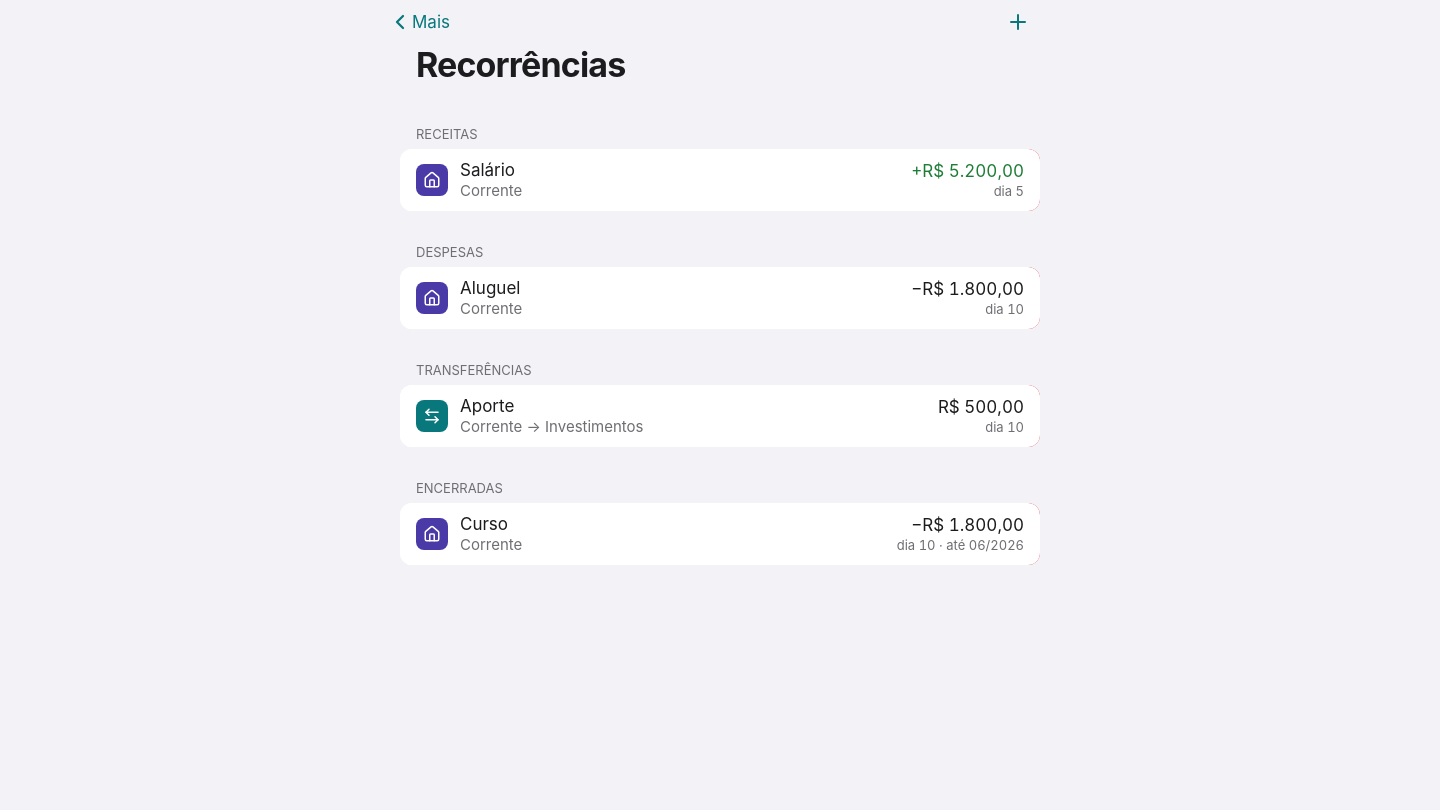
TelaRecorrencias › transferência troca categoria por "Para"
The image size is (1440, 810).
Expected: the text "Aluguel" is shown, [460,278,520,298]
Click the button named "Nova recorrência".
click(1018, 22)  # box [996,0,1040,44]
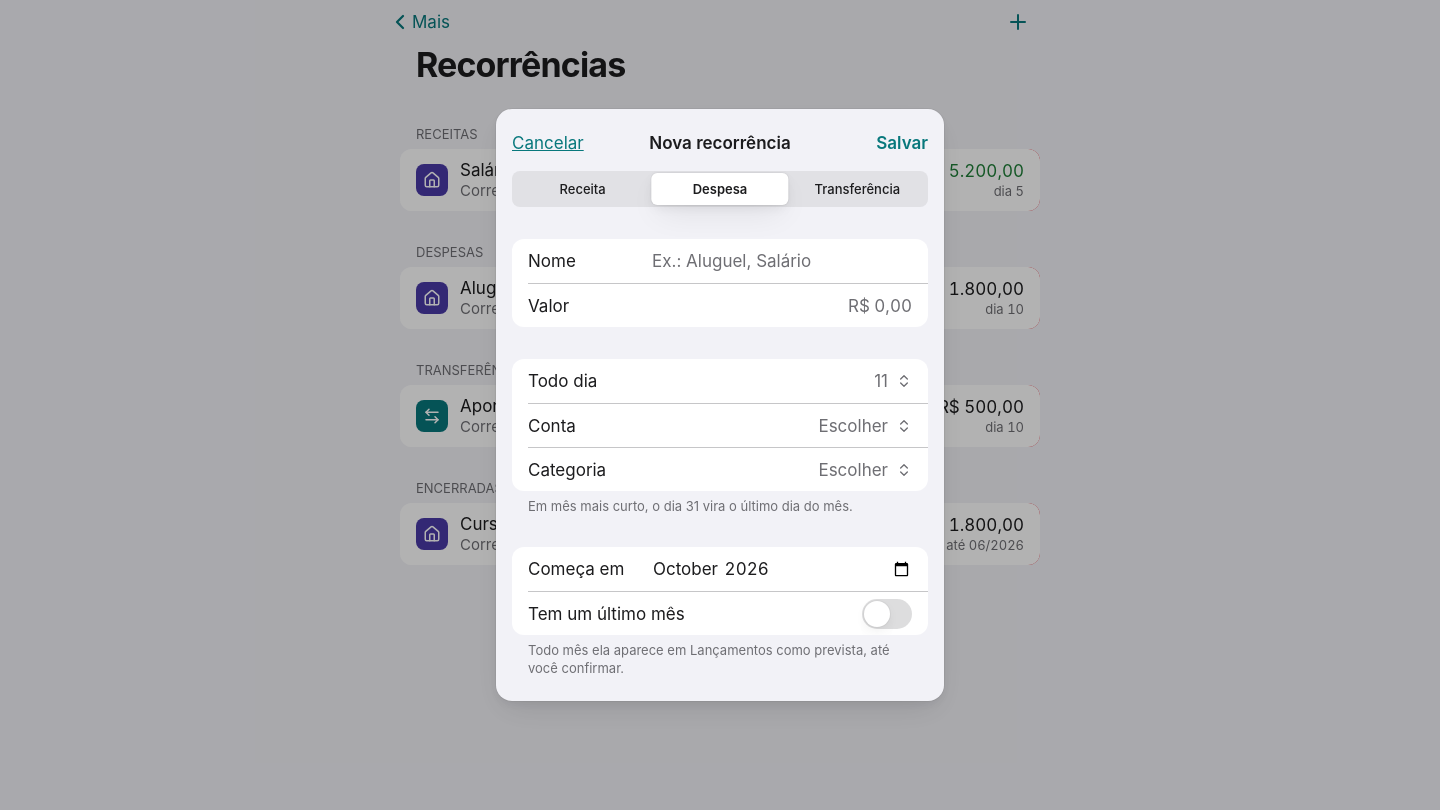
Click the radio button "Transferência".
click(857, 189)  # box [814,181,900,197]
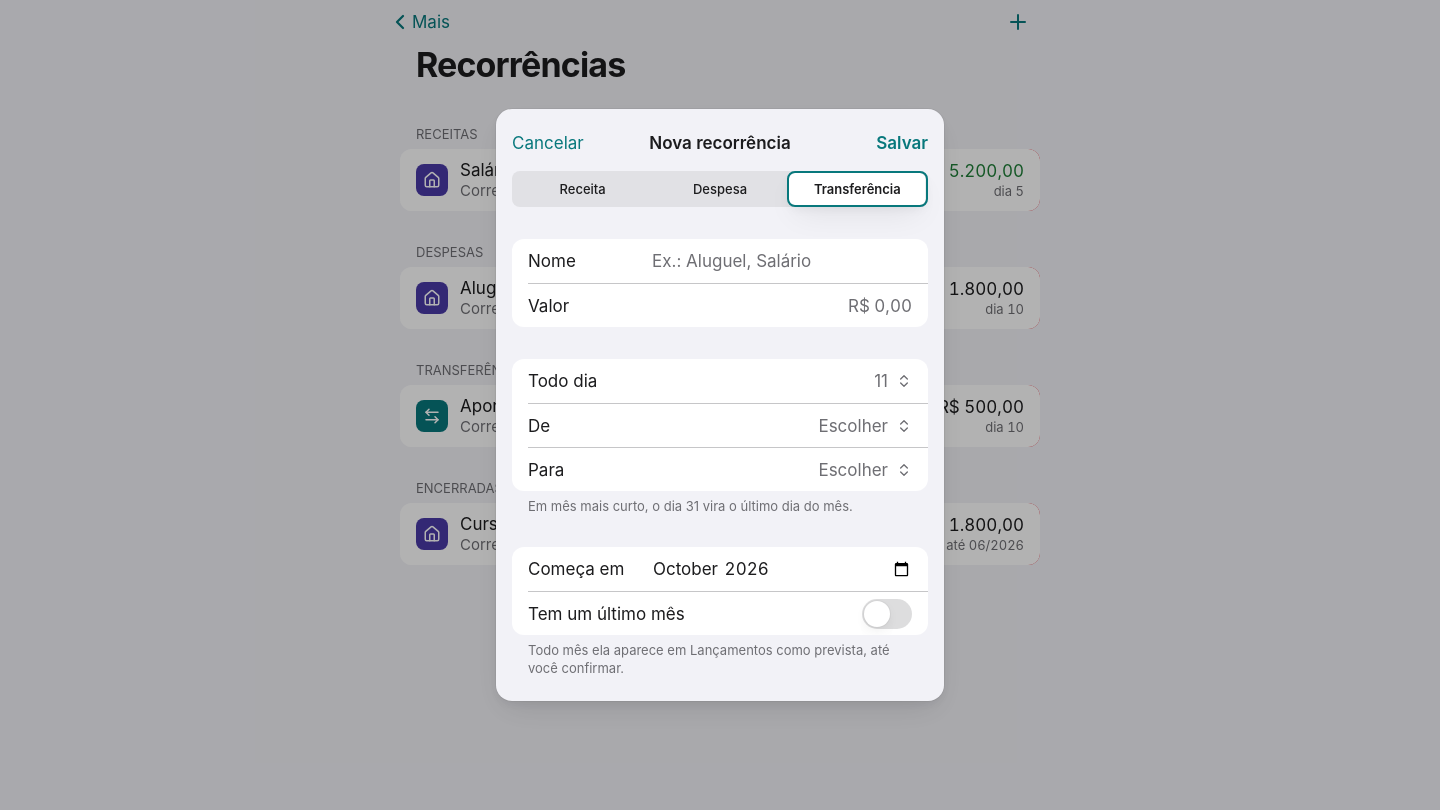
Now the dropdown labelled "De" is shown, box [652,404,912,446]
Now the dropdown labelled "Para" is shown, box [652,448,912,490]
Now the label labelled "Categoria" is gone
